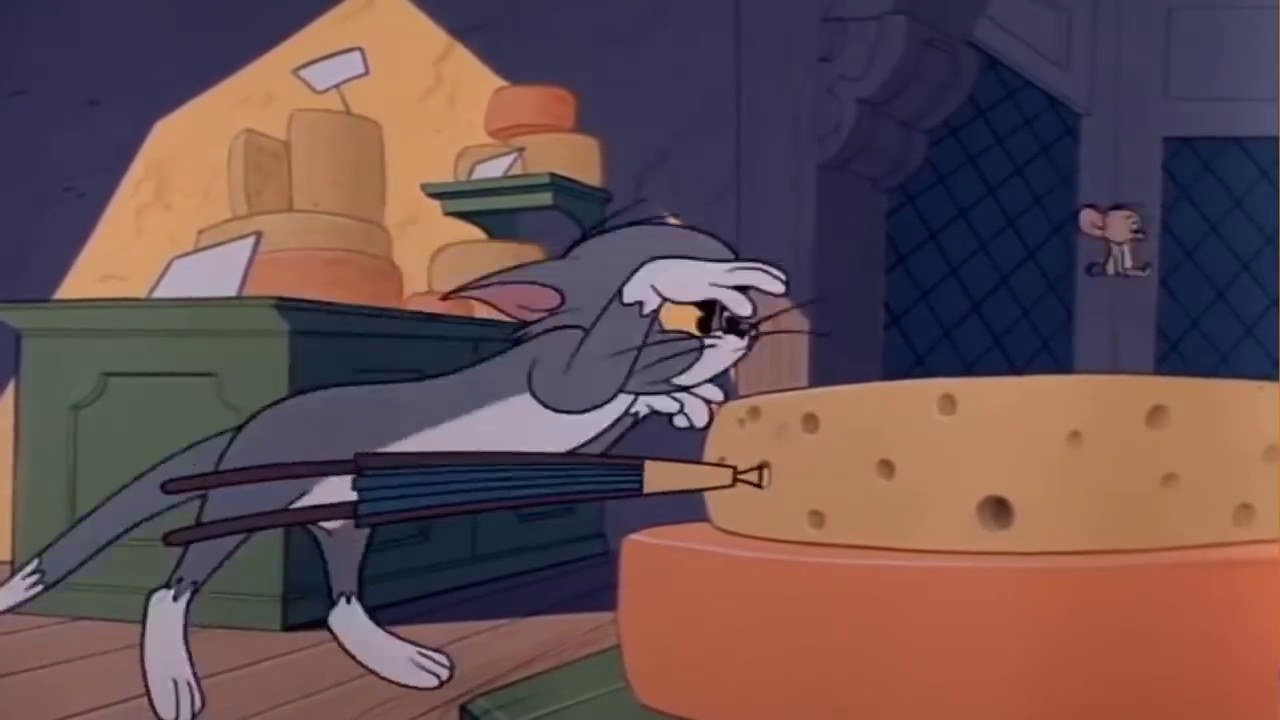face: (646, 285, 758, 392)
